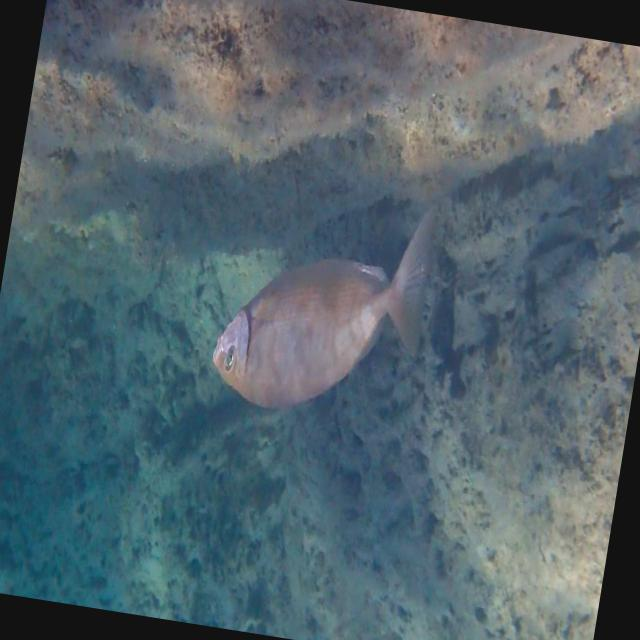Sokar Baligi: (196, 132, 470, 454)
